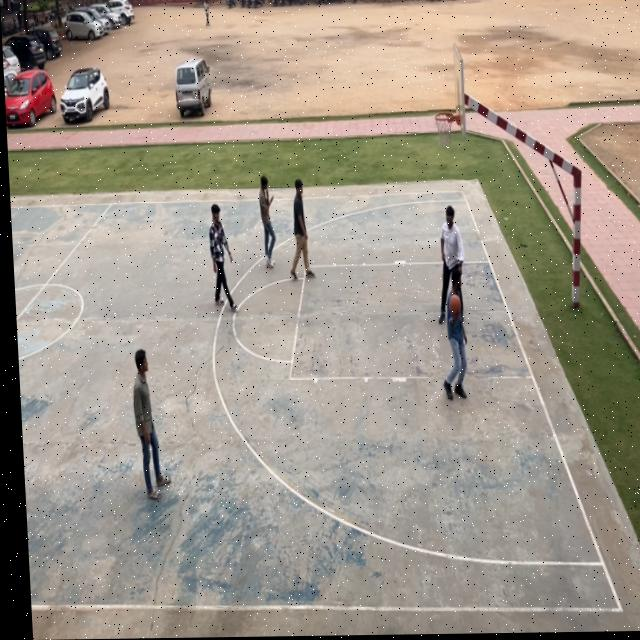basketball: (446, 288, 464, 324)
hoop: (433, 104, 458, 148)
